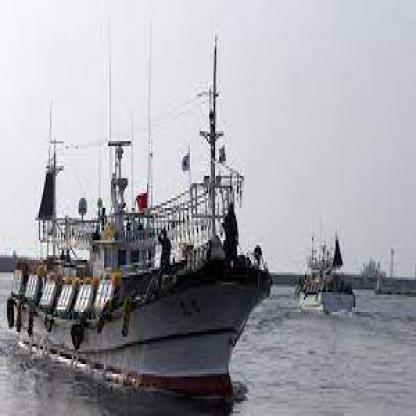fish-b: (2, 20, 274, 404)
